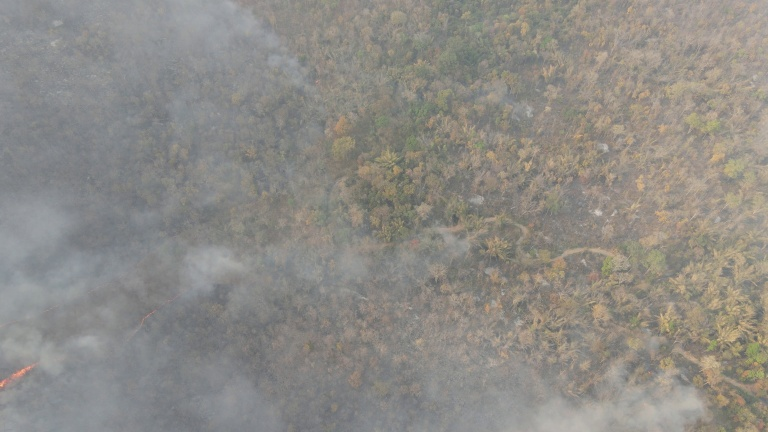fire: (115, 288, 196, 351), (1, 355, 45, 391)
smoke: (1, 237, 254, 432), (196, 9, 318, 95), (541, 371, 703, 430)
